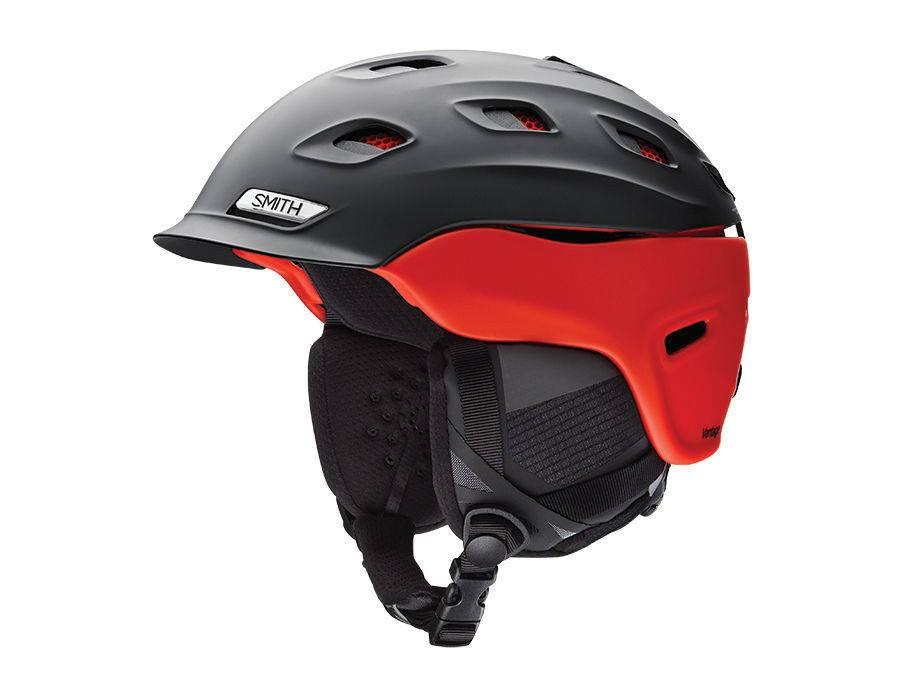helmet: (212, 76, 772, 440)
